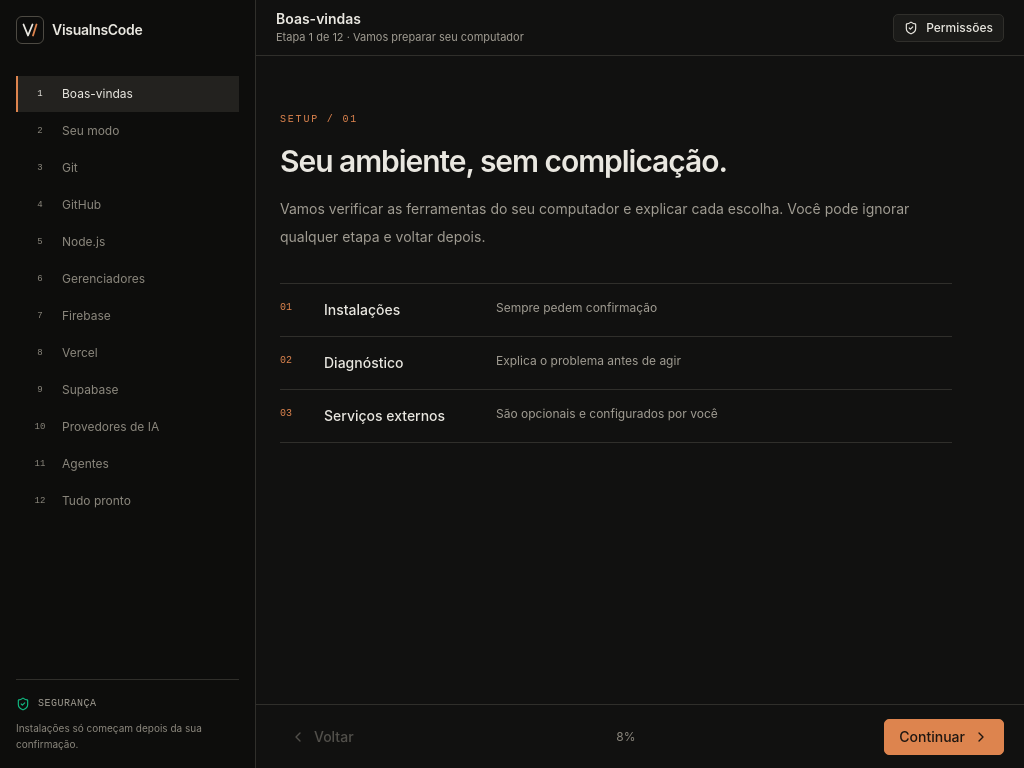
assistente inicial › mostra as sete permissões e não concede instalação por padrão
The width and height of the screenshot is (1024, 768).
Click the button "Permissões" at (949, 28), box [893,14,1004,42]
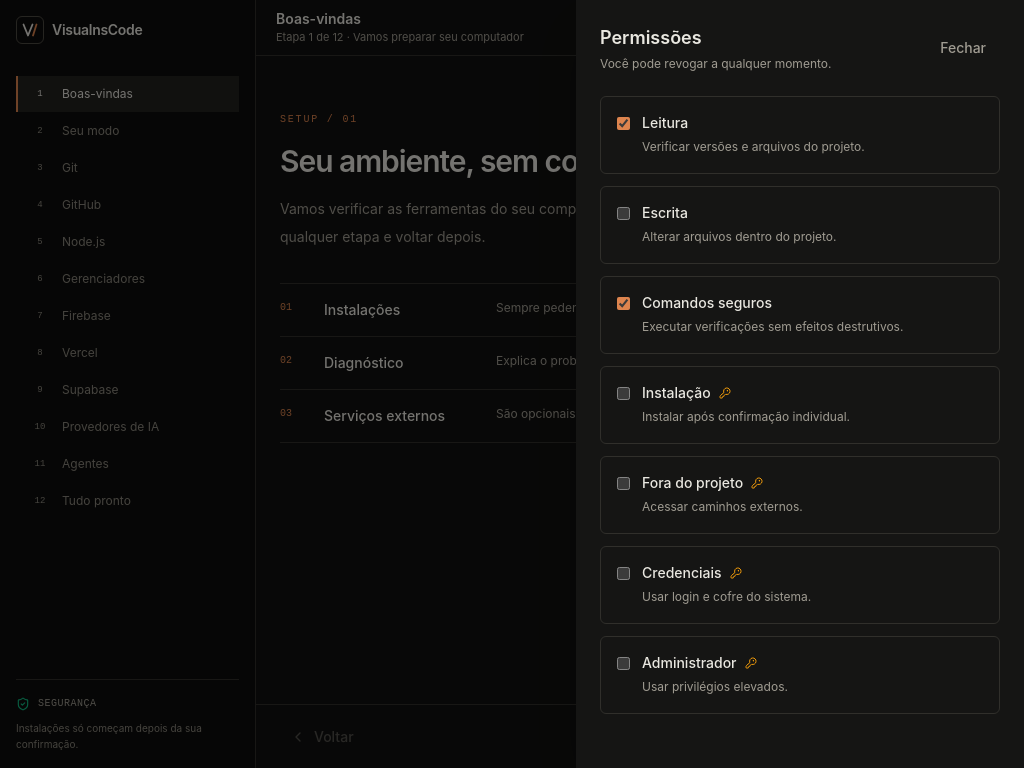
Result: the number of checkboxes is 7
Result: the checkbox named "InstalaçãoInstalar após confirmação individual." is not checked at [617,387,630,400]
